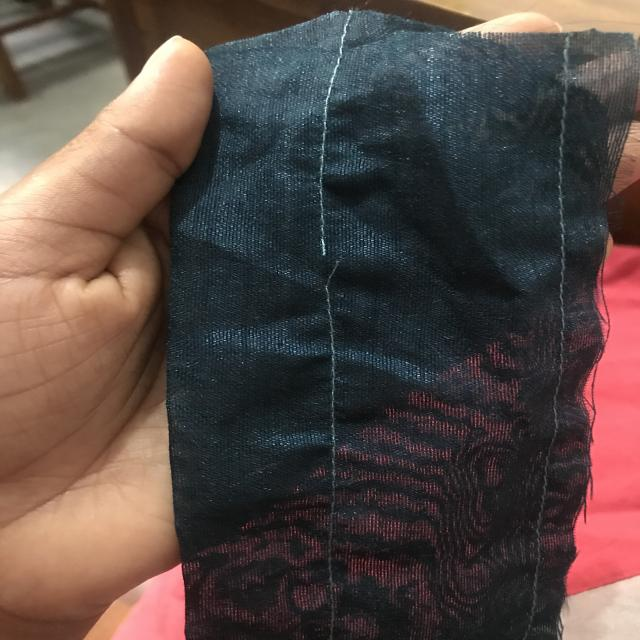broken: (300, 226, 363, 290)
good: (321, 340, 350, 445), (309, 100, 338, 194)
